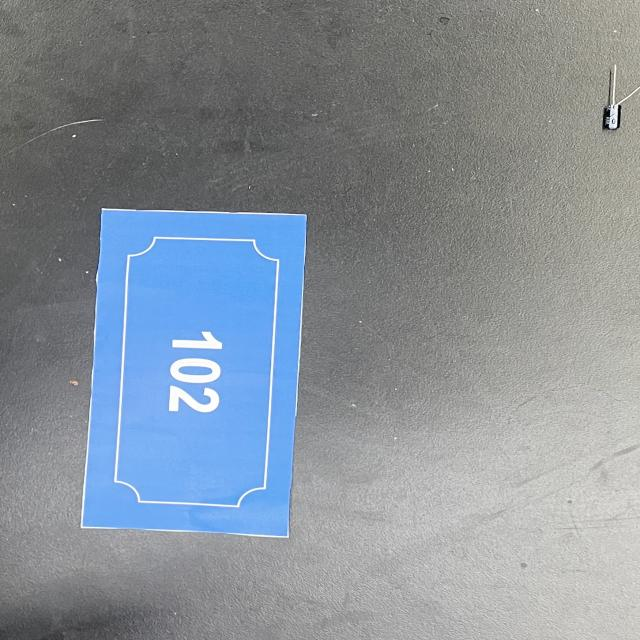Card: (65, 188, 338, 568)
